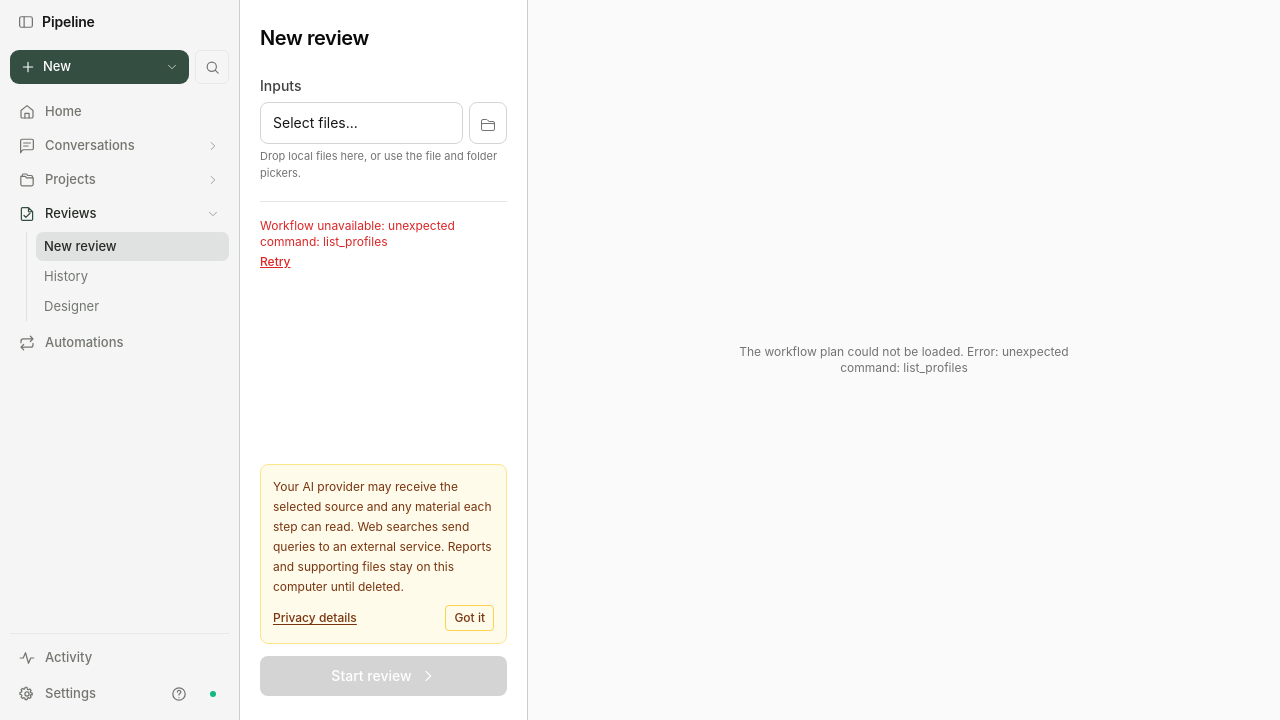
App navigation › opens Projects as an index even when a project was previously selected
Click the button "Projects".
click(120, 180)  # box [10,164,229,196]
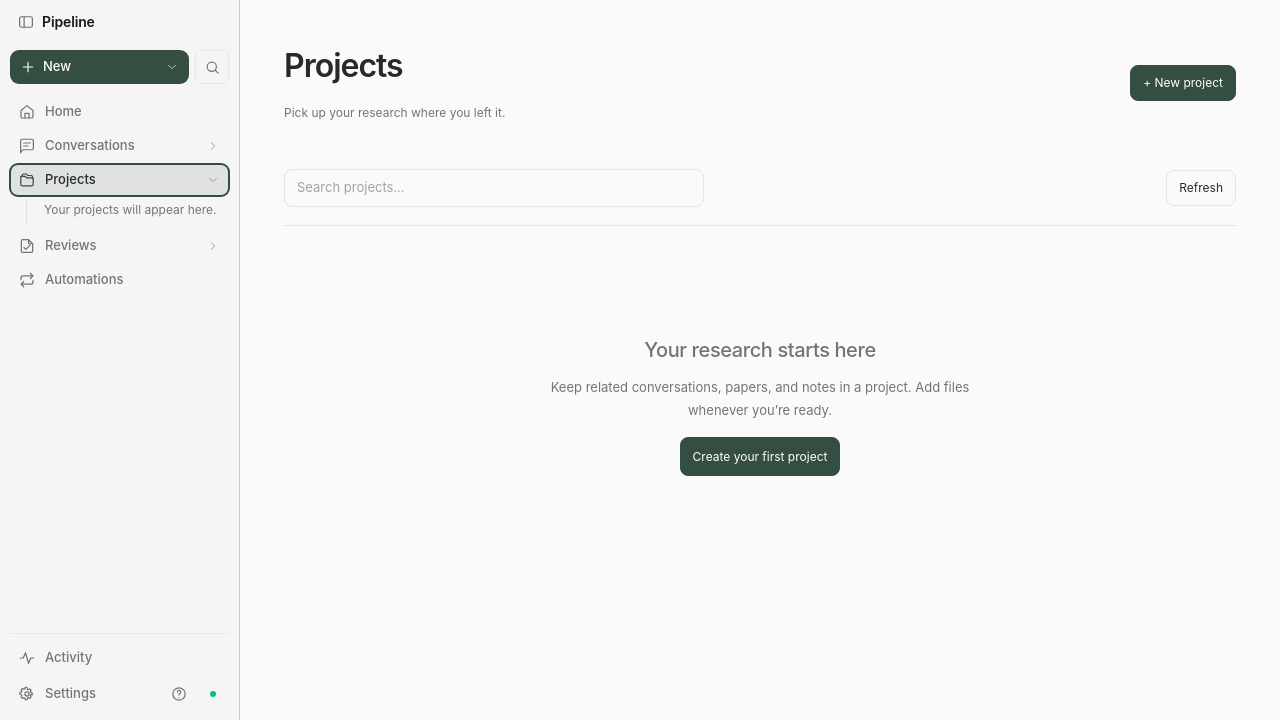
Check: the button "Create your first project" is shown, box [680,437,840,476]
